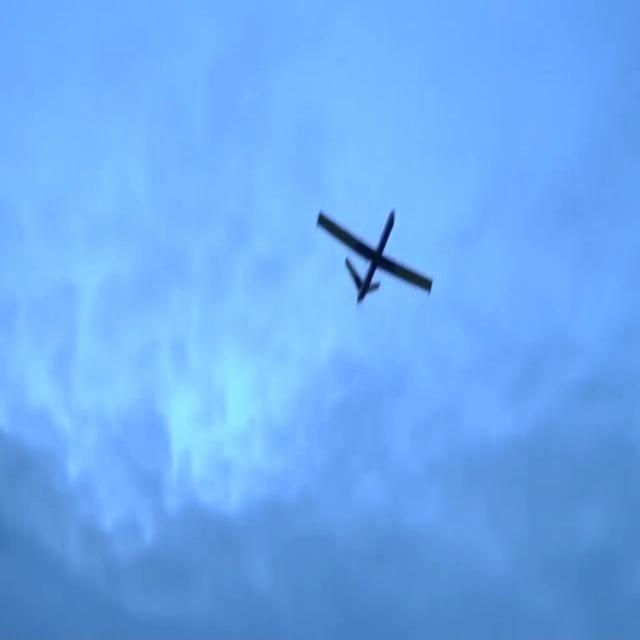iha: (344, 236, 399, 280)
